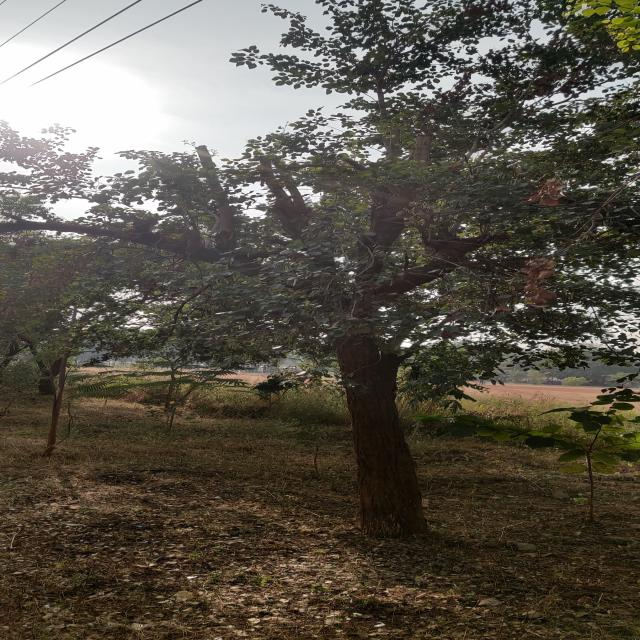Devakanchan tree: (127, 123, 596, 406)
